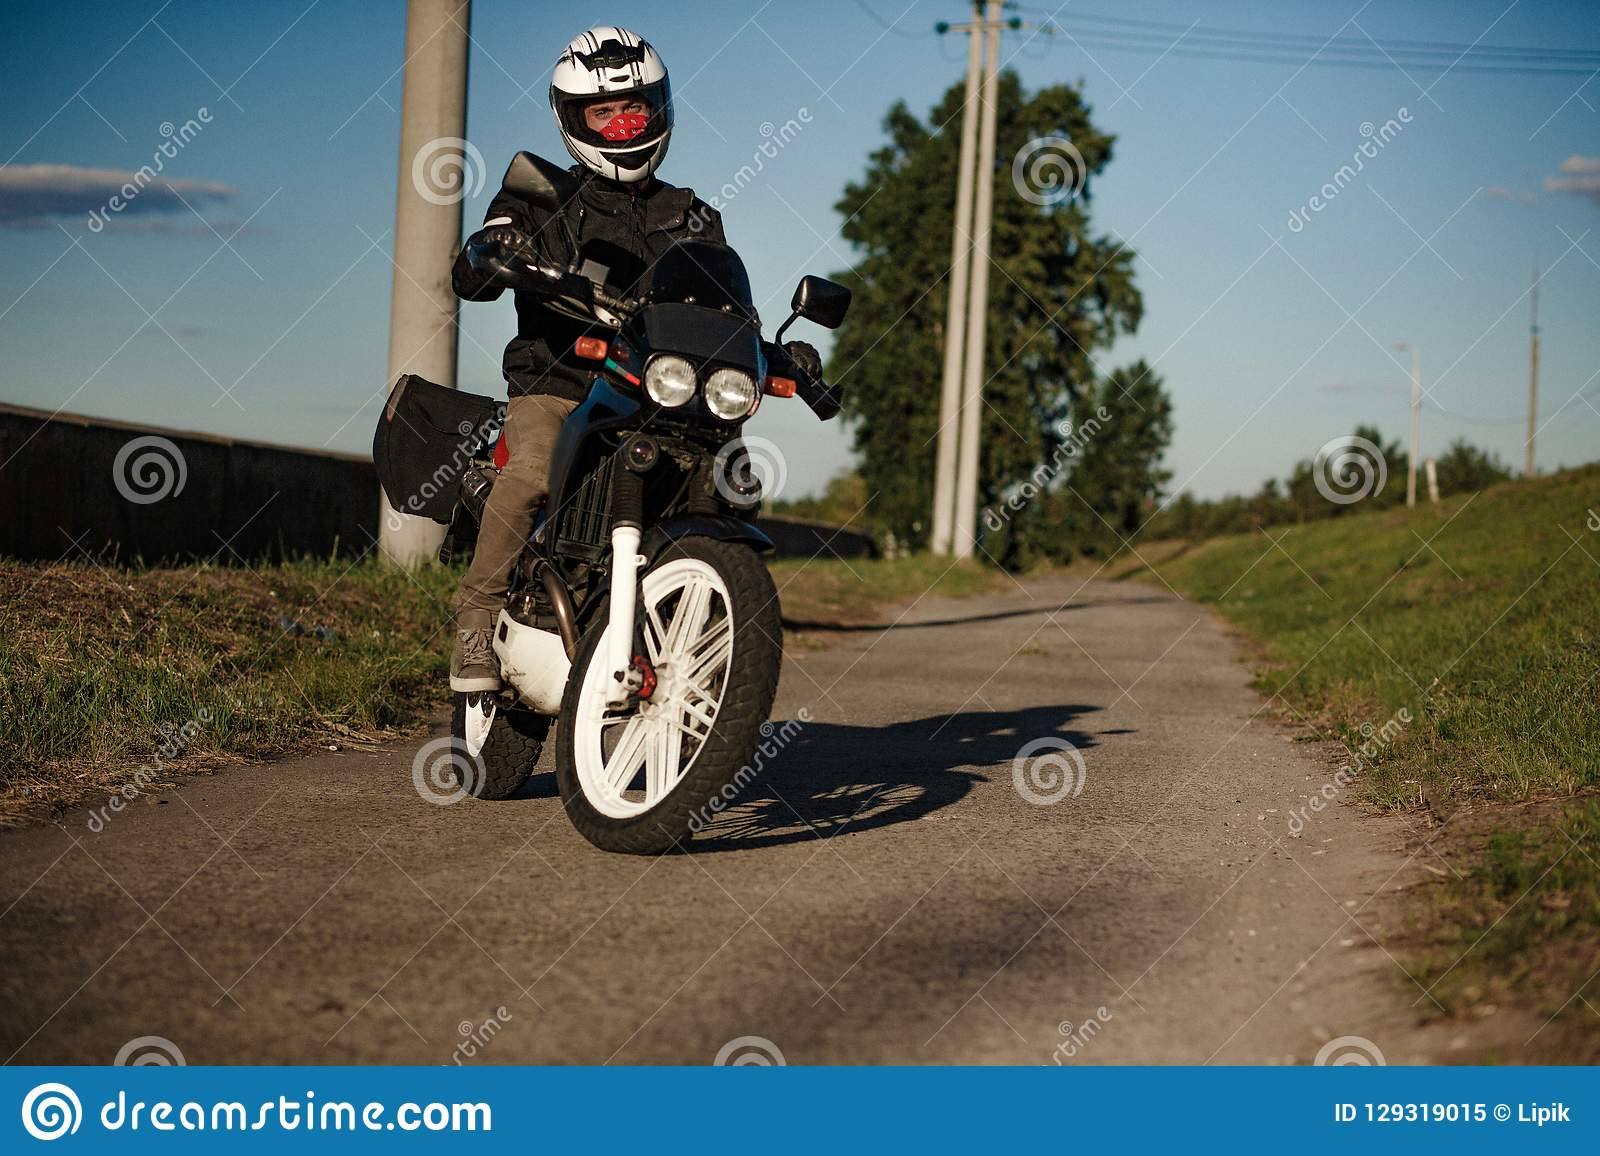helmet: (535, 14, 694, 192)
